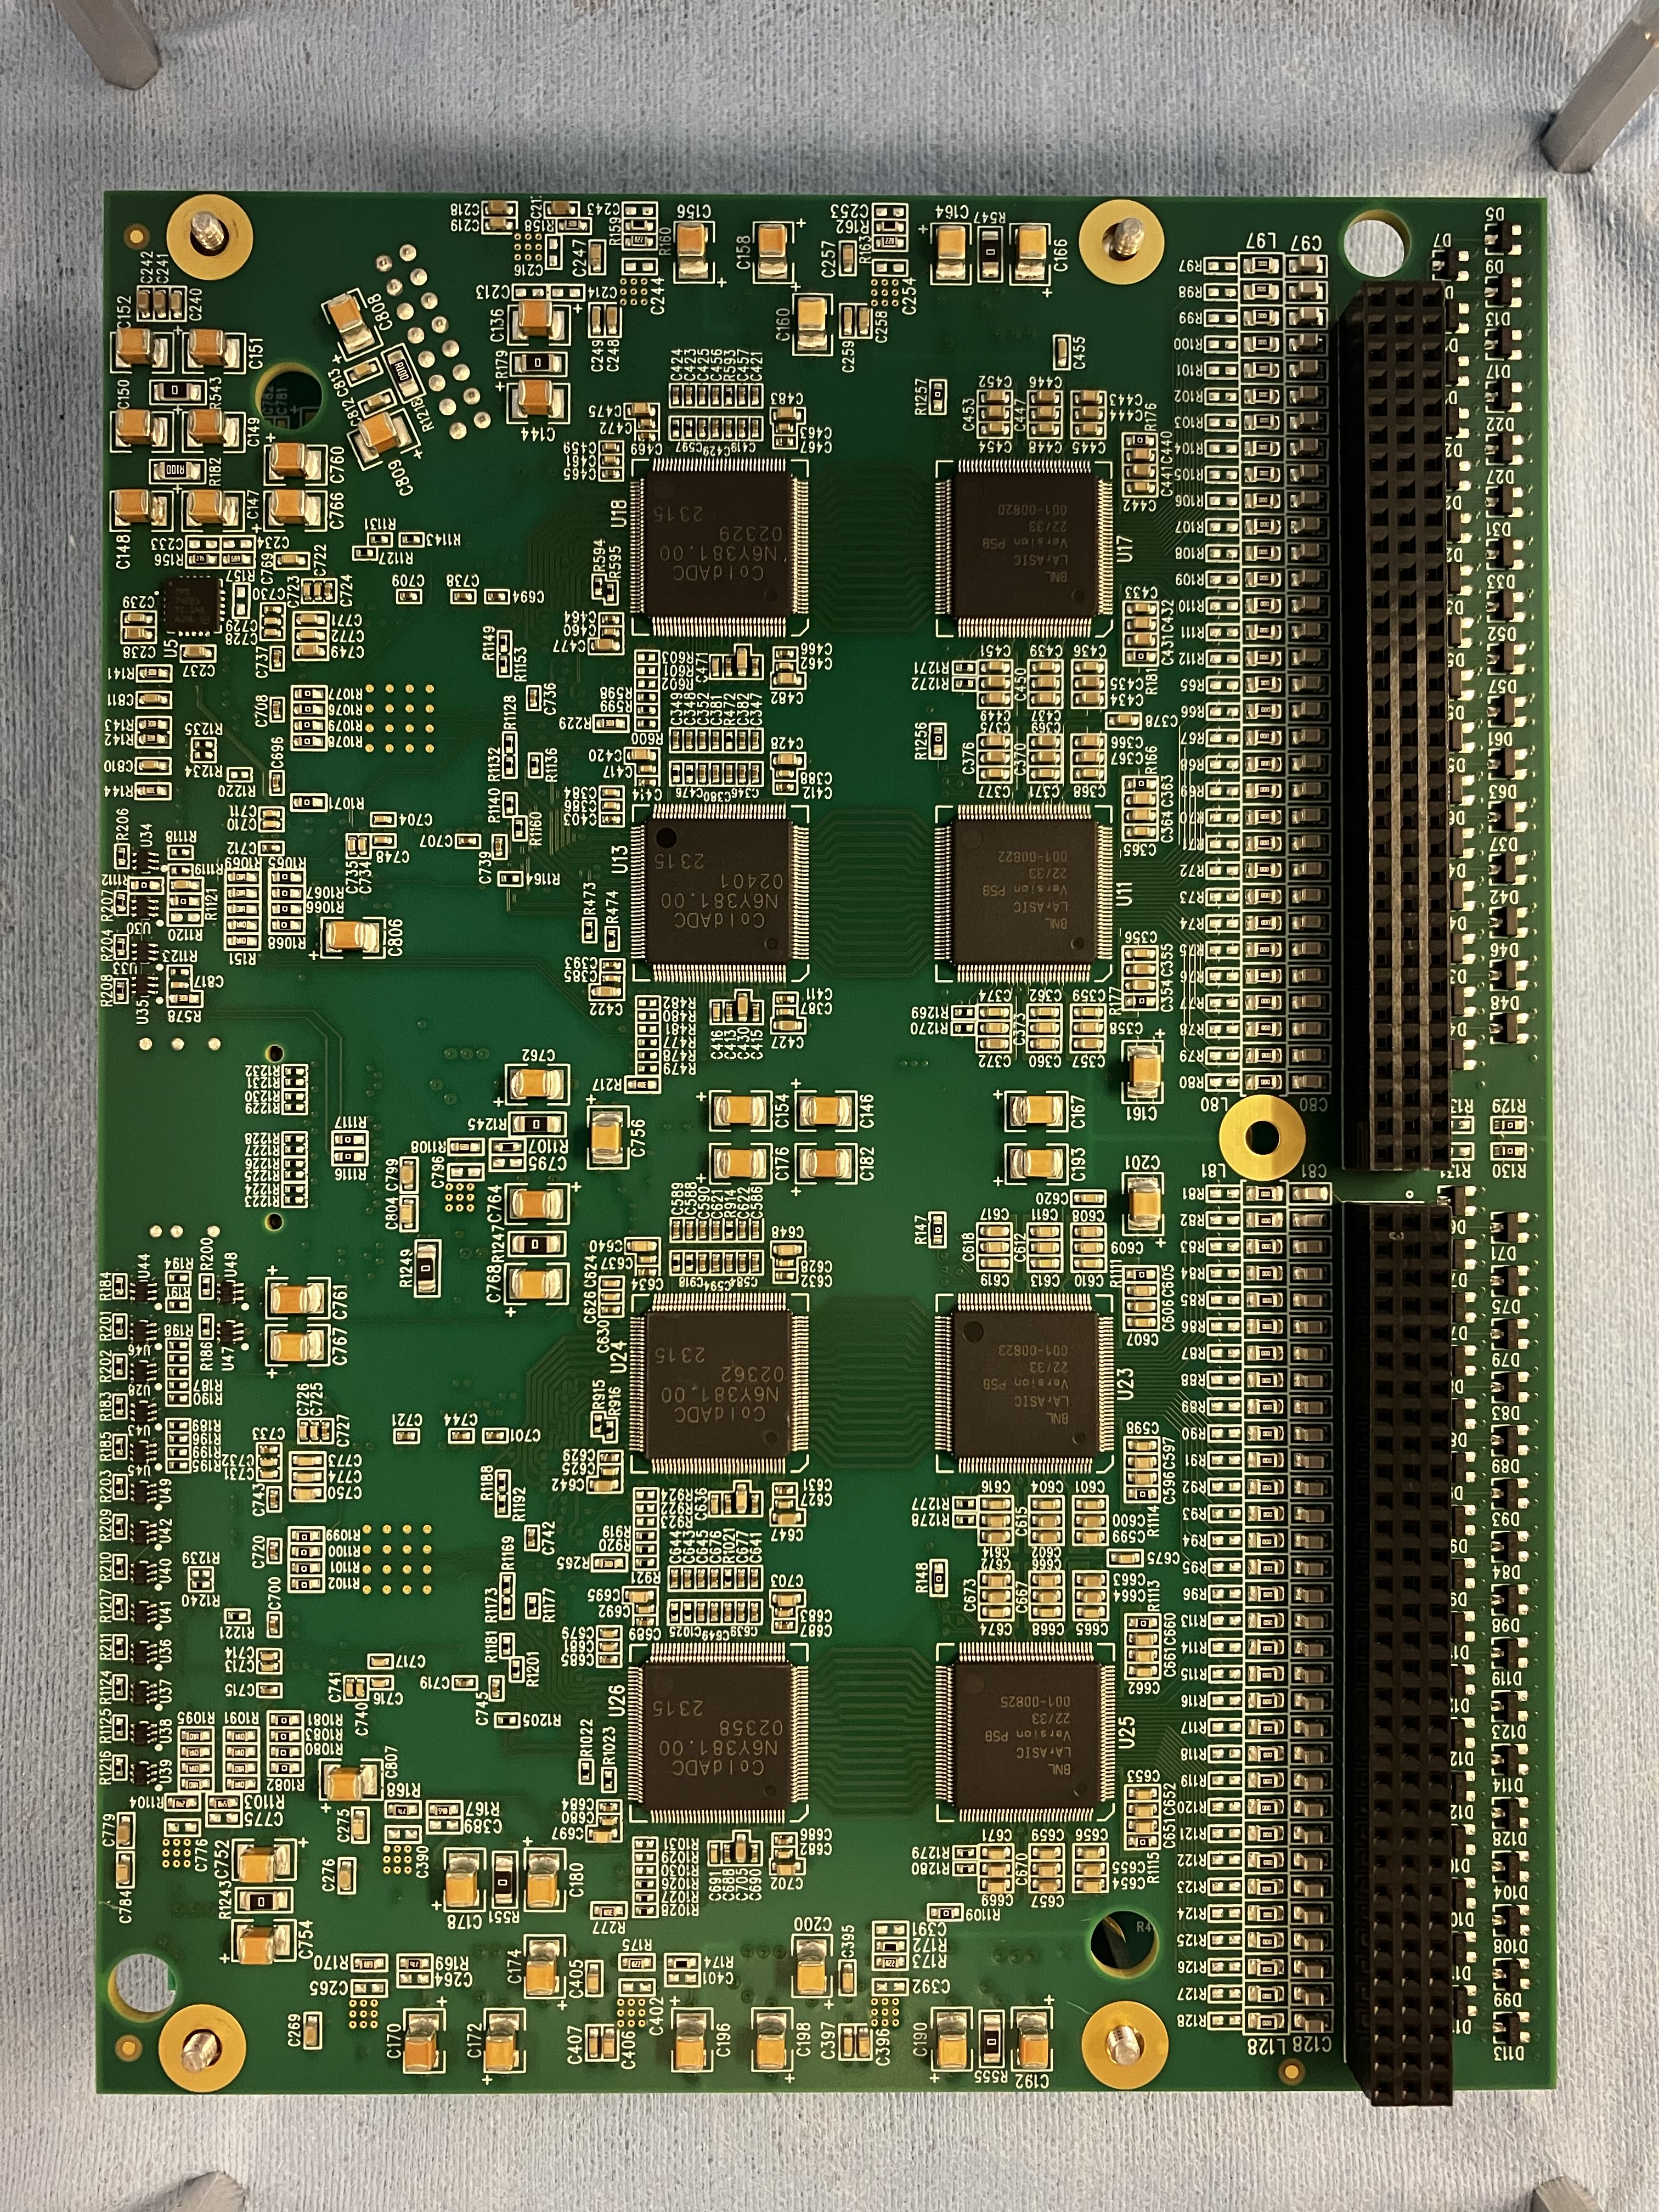chip: (950, 1656, 1103, 1810), (641, 1658, 793, 1810), (645, 467, 795, 618), (951, 467, 1101, 618), (648, 812, 798, 963), (953, 813, 1103, 965), (645, 1306, 795, 1458), (948, 1306, 1098, 1458)
